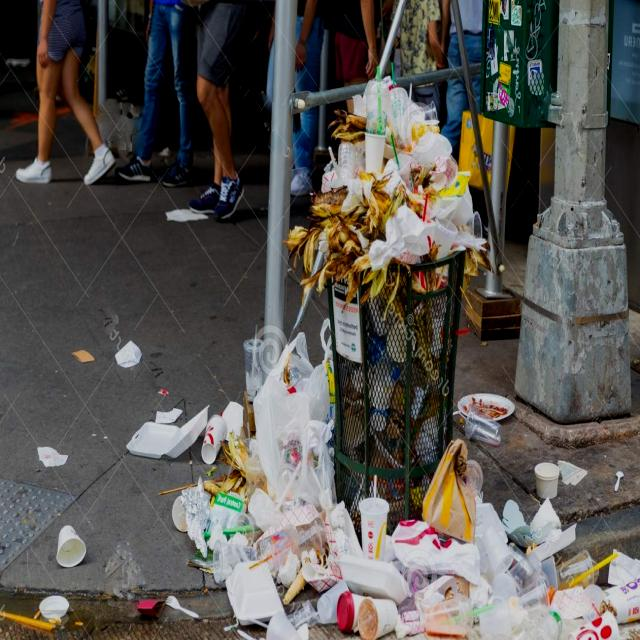garbage: (125, 78, 640, 640)
